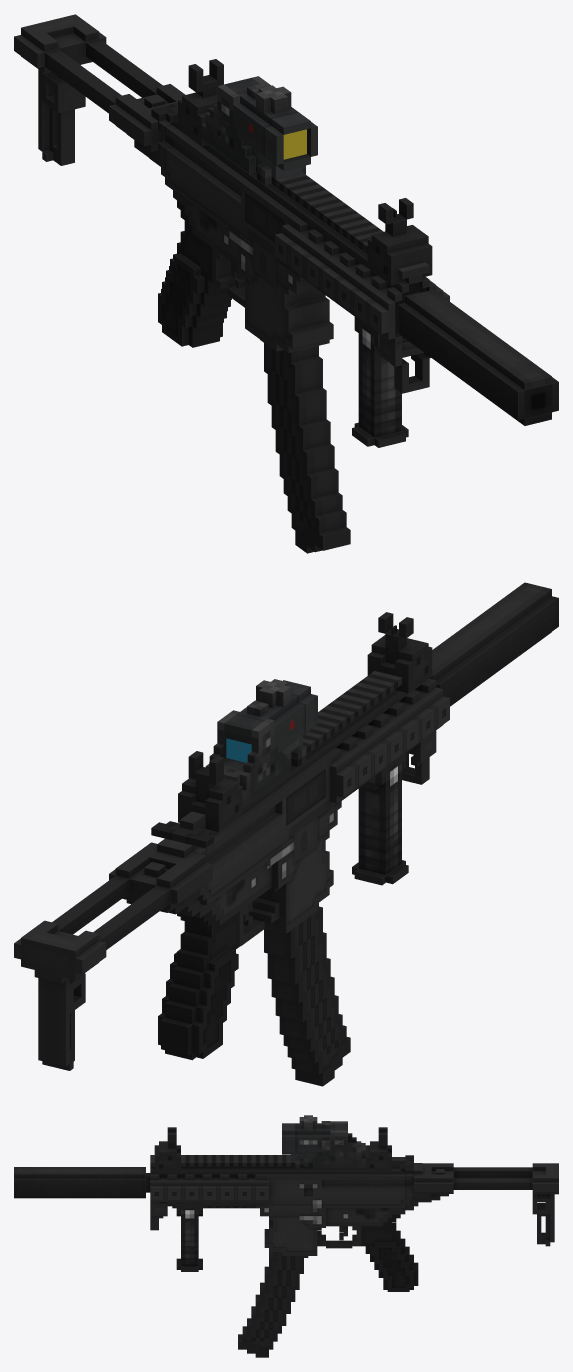
The model's file is RD_SIG_MPX_SNOW.glb.
The picture shows the model from 3 angles, top to bottom: view 1: azimuth 30°, elevation 25°; view 2: azimuth 150°, elevation 25°; view 3: azimuth 270°, elevation 25°; orthographic projection. The views are drawn at different scales.
Parts seen in each view (by area): view 1: SIG_MPX, SIG_MPX_CLIP, SILENCER_6X6, SIG_MPX_SCOPE, SCOPE_TASCO, GRIP1, SCOPE_EOTECH, SCOPE_HOLOSUN; view 2: SIG_MPX, SIG_MPX_CLIP, SILENCER_6X6, SIG_MPX_SCOPE, GRIP1, SCOPE_TASCO, SCOPE_EOTECH, SCOPE_HOLOSUN, SIG_MPX_BOLT; view 3: SIG_MPX, SILENCER_6X6, SIG_MPX_CLIP, SCOPE_TASCO, SIG_MPX_SCOPE, GRIP1, SCOPE_EOTECH, SCOPE_HOLOSUN.
Boxes of the visible parts, left/top/right/bottom form: SIG_MPX: left=14, top=14, right=449, bottom=393; SIG_MPX_CLIP: left=260, top=339, right=350, bottom=553; SILENCER_6X6: left=399, top=289, right=558, bottom=425; SIG_MPX_SCOPE: left=178, top=59, right=432, bottom=284; SCOPE_TASCO: left=224, top=78, right=317, bottom=185; GRIP1: left=352, top=316, right=408, bottom=447; SCOPE_EOTECH: left=209, top=100, right=302, bottom=179; SCOPE_HOLOSUN: left=201, top=76, right=270, bottom=144; SIG_MPX: left=14, top=671, right=449, bottom=1070; SIG_MPX_CLIP: left=264, top=903, right=350, bottom=1086; SILENCER_6X6: left=429, top=582, right=558, bottom=706; SIG_MPX_SCOPE: left=178, top=612, right=432, bottom=832; GRIP1: left=352, top=753, right=408, bottom=885; SCOPE_TASCO: left=217, top=679, right=317, bottom=776; SCOPE_EOTECH: left=209, top=730, right=302, bottom=801; SCOPE_HOLOSUN: left=205, top=710, right=274, bottom=807; SIG_MPX_BOLT: left=151, top=821, right=213, bottom=848; SIG_MPX: left=146, top=1155, right=558, bottom=1291; SILENCER_6X6: left=14, top=1167, right=145, bottom=1198; SIG_MPX_CLIP: left=238, top=1252, right=308, bottom=1357; SCOPE_TASCO: left=282, top=1115, right=347, bottom=1168; SIG_MPX_SCOPE: left=154, top=1127, right=391, bottom=1172; GRIP1: left=176, top=1206, right=202, bottom=1271; SCOPE_EOTECH: left=291, top=1133, right=356, bottom=1168; SCOPE_HOLOSUN: left=330, top=1121, right=365, bottom=1168.
Bounding box in the file's own units: 0.0984 × 0.5806 × 1.22.
Materials: 9 (9 with a texture image).
